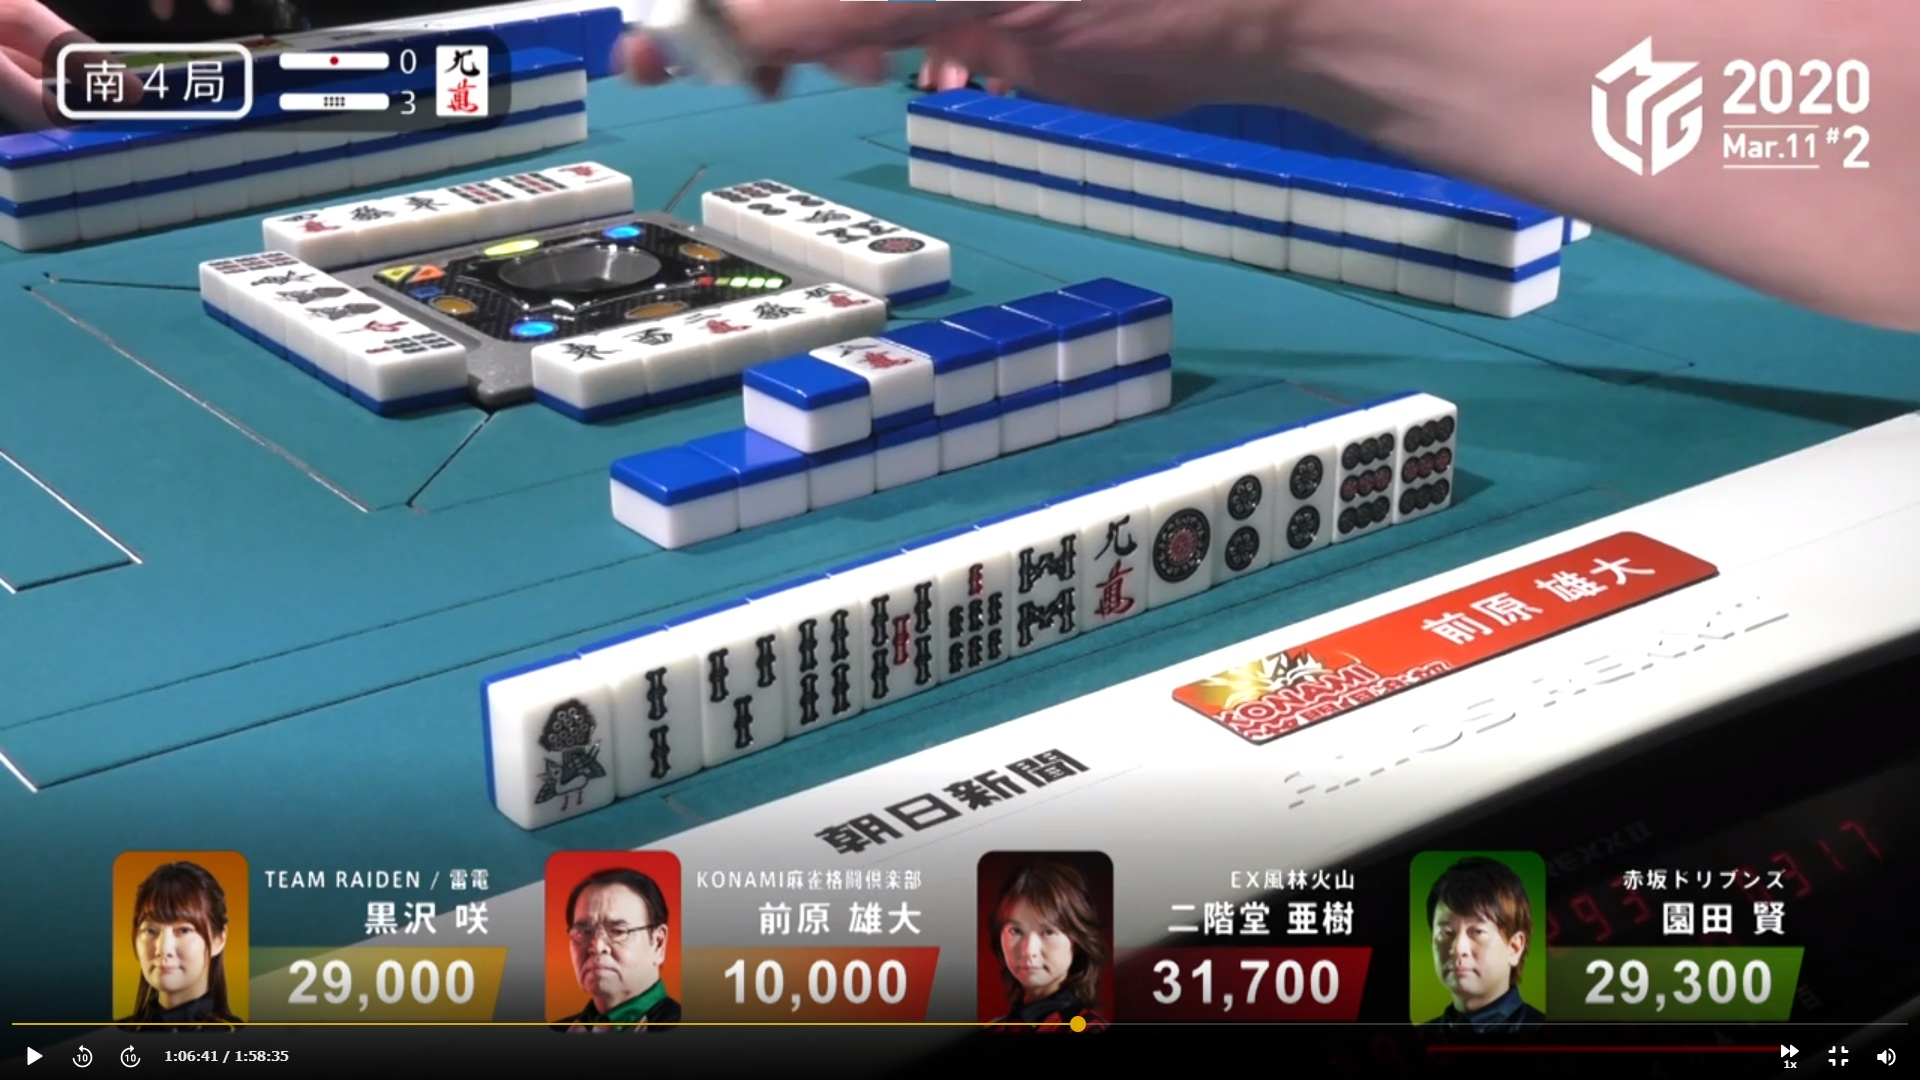1p: (1146, 492, 1212, 597)
1s: (520, 673, 611, 814)
2p: (1271, 451, 1329, 555), (1216, 468, 1263, 582)
2s: (618, 665, 694, 791)
3s: (699, 624, 781, 762)
4s: (785, 605, 858, 733)
5s: (861, 579, 935, 702)
7s: (938, 554, 1009, 679)
8s: (1010, 526, 1075, 649)
9m: (1081, 510, 1141, 626)
9p: (1396, 409, 1452, 517), (1335, 431, 1390, 535)
hand_nan_4: (51, 36, 260, 123)
round_3: (268, 84, 426, 119)
team_konami: (1160, 624, 1468, 746)
